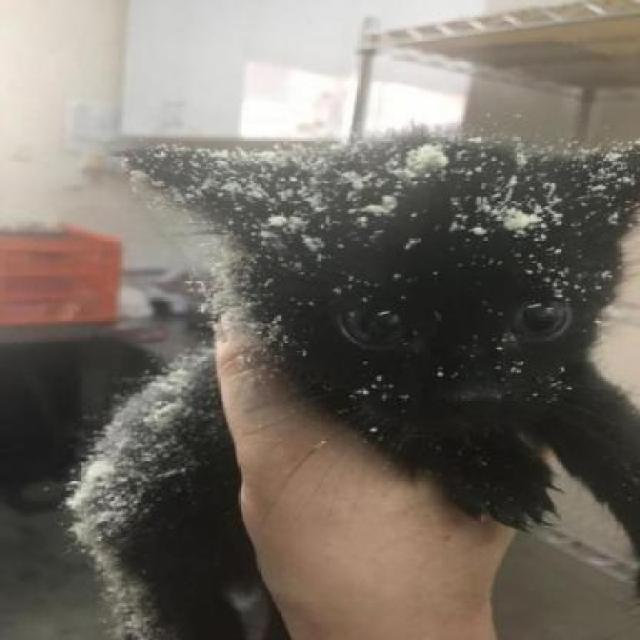cat: (67, 95, 640, 639)
